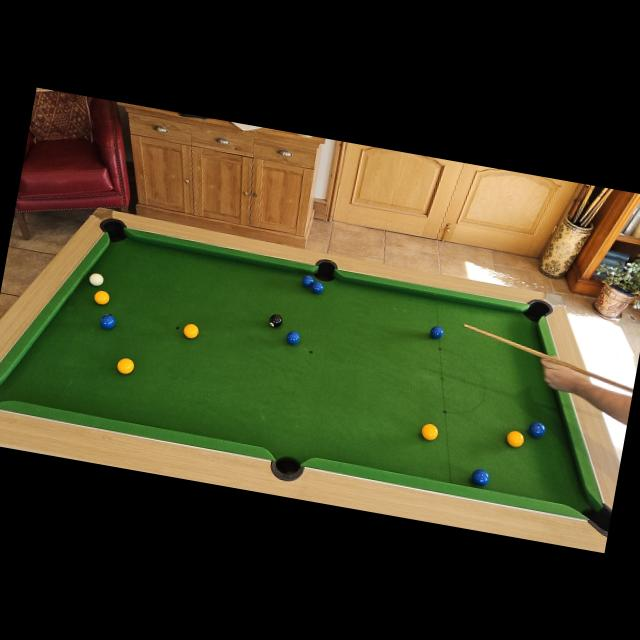Ball: (470, 467, 490, 487), (505, 429, 526, 448), (526, 419, 546, 438), (420, 422, 439, 441), (116, 356, 134, 376), (182, 322, 200, 340), (99, 314, 116, 330), (87, 270, 103, 286), (94, 290, 110, 306), (284, 330, 300, 346), (268, 312, 283, 328), (429, 326, 444, 340), (310, 280, 324, 294), (301, 274, 314, 288)
